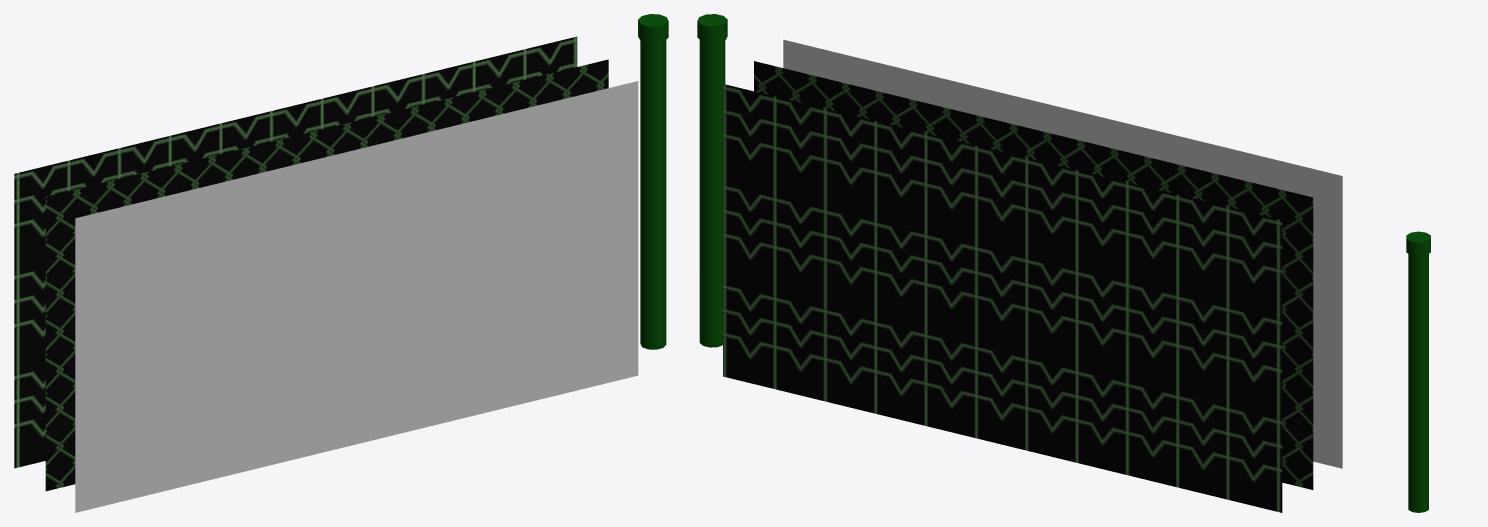
Rendered from Fence.fbx.
The picture shows the model from 3 angles, left to right: view 1: azimuth 30°, elevation 25°; view 2: azimuth 150°, elevation 25°; view 3: azimuth 270°, elevation 25°; orthographic projection. The views are drawn at different scales.
Visible parts, largest first — view 1: Fence_03, Fence_01, Fence_02, Fence_Post; view 2: Fence_01, Fence_02, Fence_03, Fence_Post; view 3: Fence_Post.
Boxes of the visible parts, x1,y1,x2,y2 form: Fence_03: (75,81,638,512); Fence_01: (14,36,577,468); Fence_02: (45,59,608,491); Fence_Post: (638,14,668,349); Fence_01: (723,84,1282,512); Fence_02: (754,61,1313,489); Fence_03: (783,39,1342,468); Fence_Post: (697,14,727,347); Fence_Post: (1406,231,1430,512).
Size of the model in its own units: 220 by 110 by 37.47.
